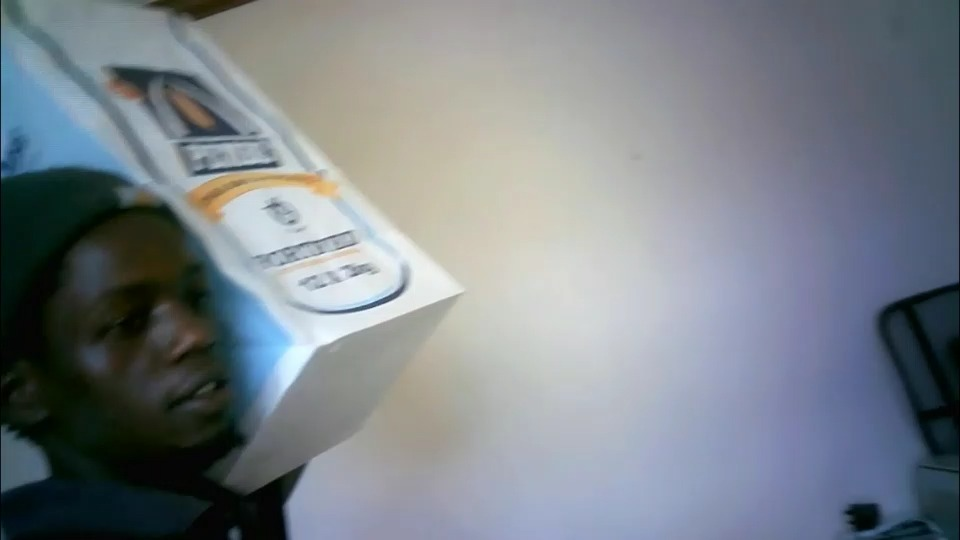wheat_flour_blue_label: (0, 0, 460, 494)
